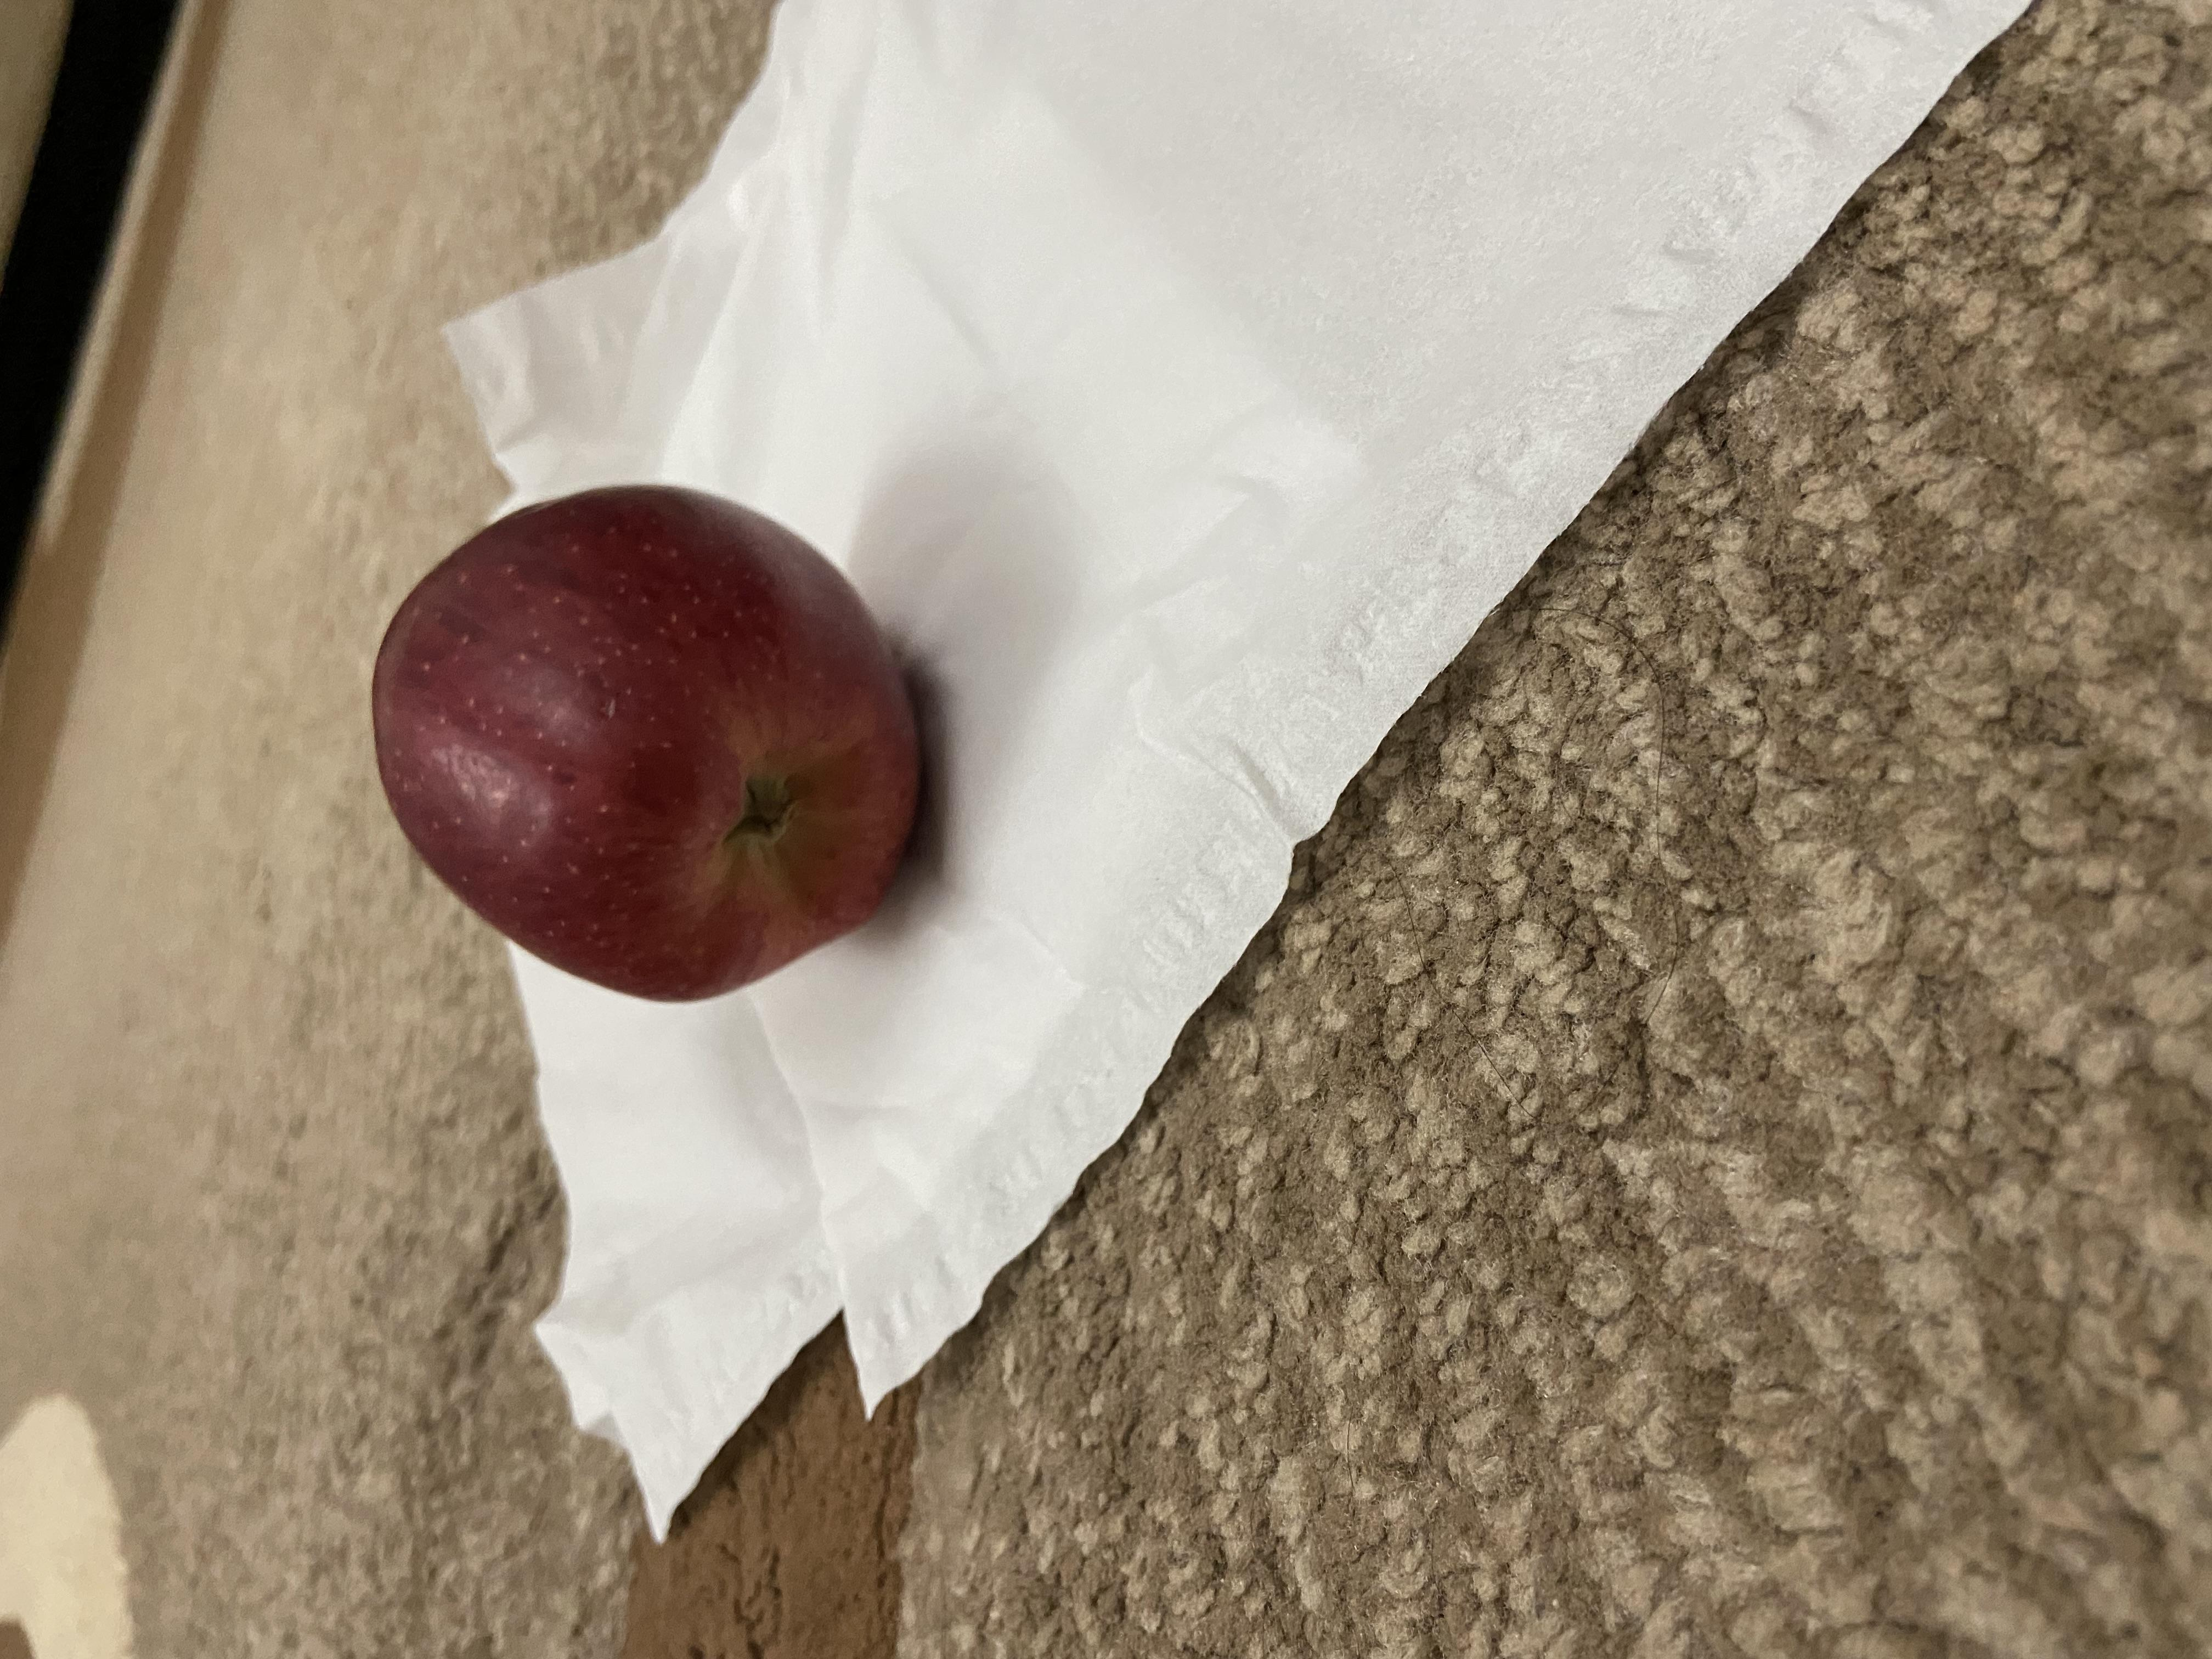Apple: (866, 260, 1588, 699)
